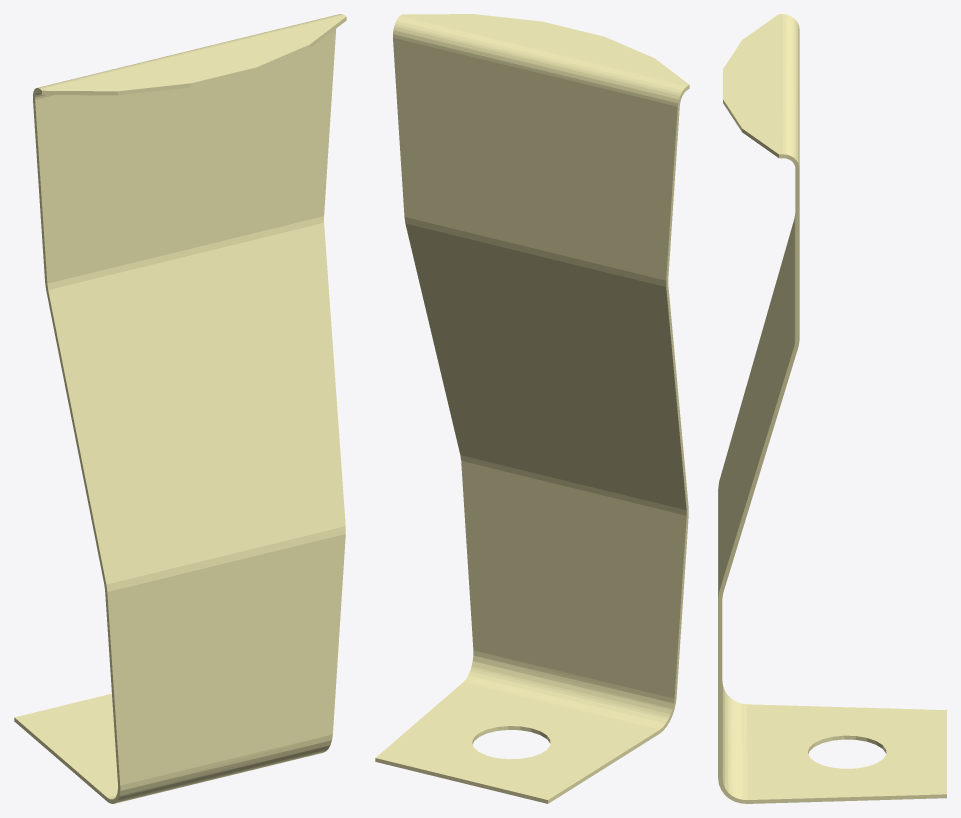
The model's file is Valve_spring.glb.
3 views of the same model, side by side, from view 1: azimuth 30°, elevation 25°; view 2: azimuth 150°, elevation 25°; view 3: azimuth 270°, elevation 25° (orthographic). The views are drawn at different scales.
Parts seen in each view (by area): view 1: Node1; view 2: Node1; view 3: Node1.
Boxes of the visible parts, box(x1,y1,x2,y2) form: Node1: box(14, 14, 346, 803); Node1: box(375, 14, 689, 803); Node1: box(718, 14, 946, 803).
Size of the model in its own units: 7.94 by 17.71 by 5.46.
